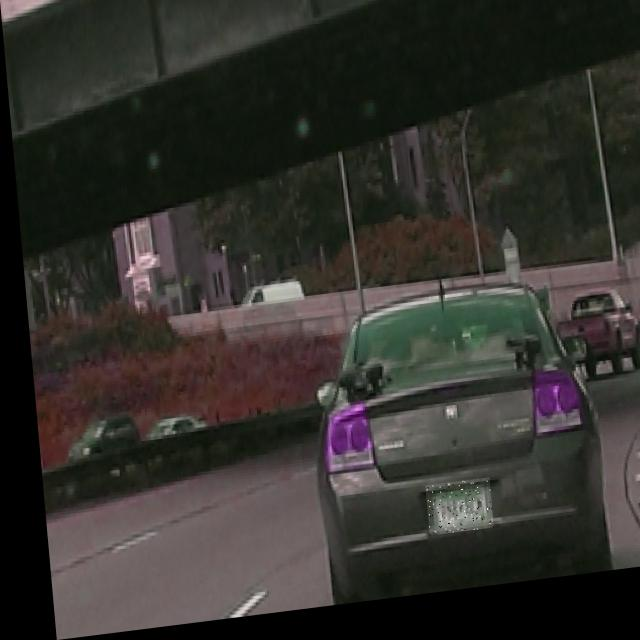license_plate: (415, 489, 483, 545)
